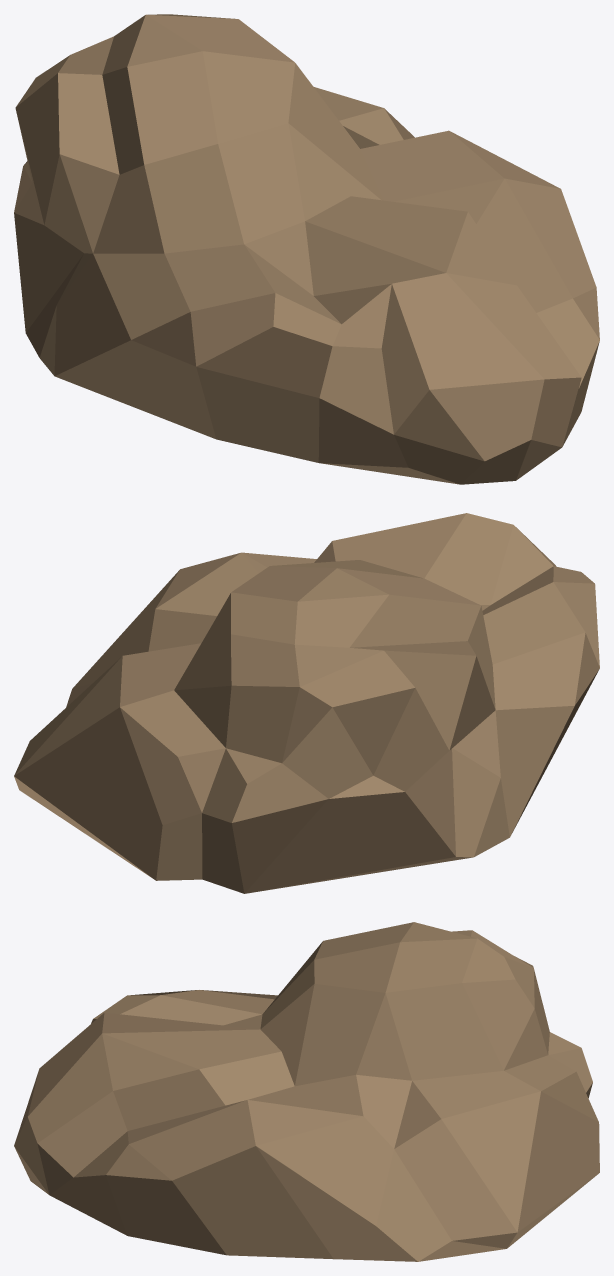
File: Hshitou4.FBX
3 views of the same model, one above another, from view 1: azimuth 30°, elevation 25°; view 2: azimuth 150°, elevation 25°; view 3: azimuth 270°, elevation 25° (orthographic). The views are drawn at different scales.
Visible parts, largest first — view 1: 对象013; view 2: 对象013; view 3: 对象013.
Part boxes in pixels (left/top/right/bottom): 对象013: left=14, top=14, right=599, bottom=484; 对象013: left=14, top=513, right=599, bottom=893; 对象013: left=14, top=922, right=599, bottom=1261.
Size of the model in its own units: 12.97 by 7.39 by 17.95.
